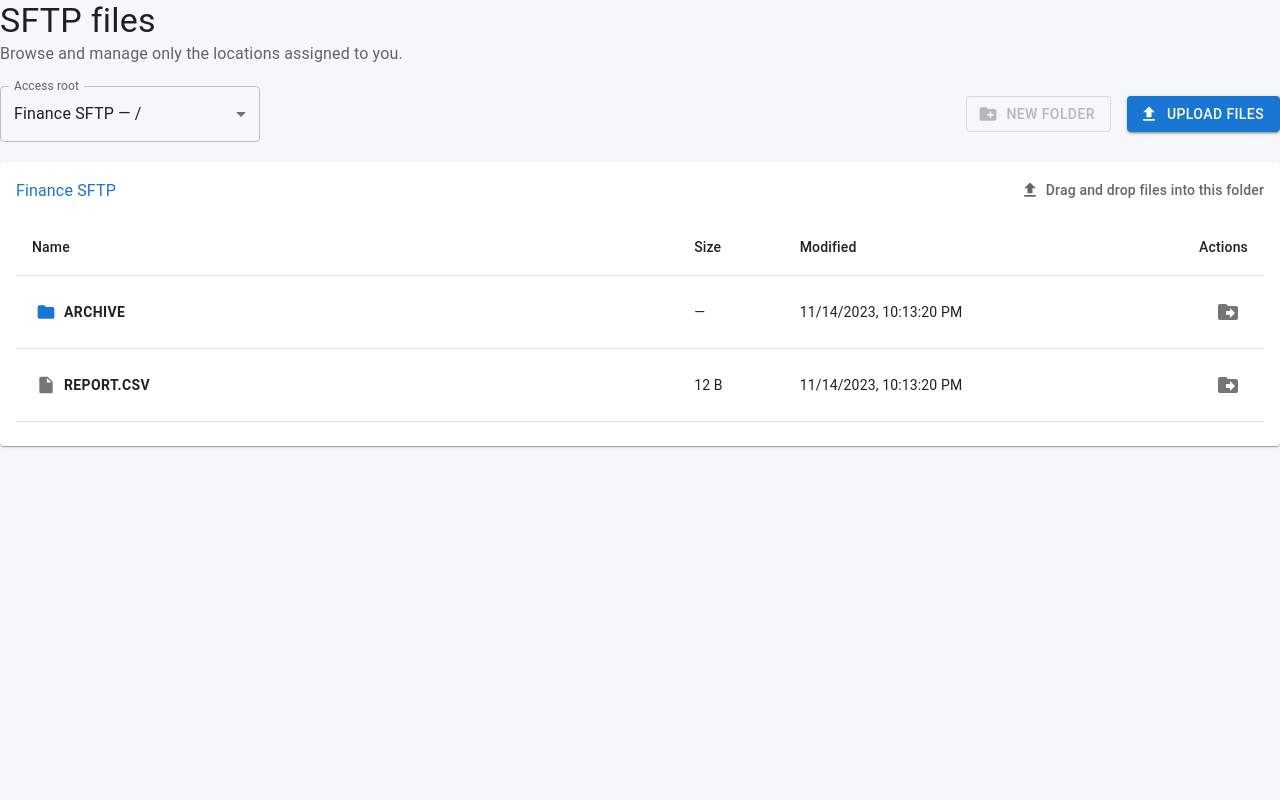
Test case: same-server move folder picker › keeps move failures highlighted inside the destination popup
Step 1. Click the button named "Move report.csv" → click(1228, 385), box left=1208, top=365, right=1248, bottom=405
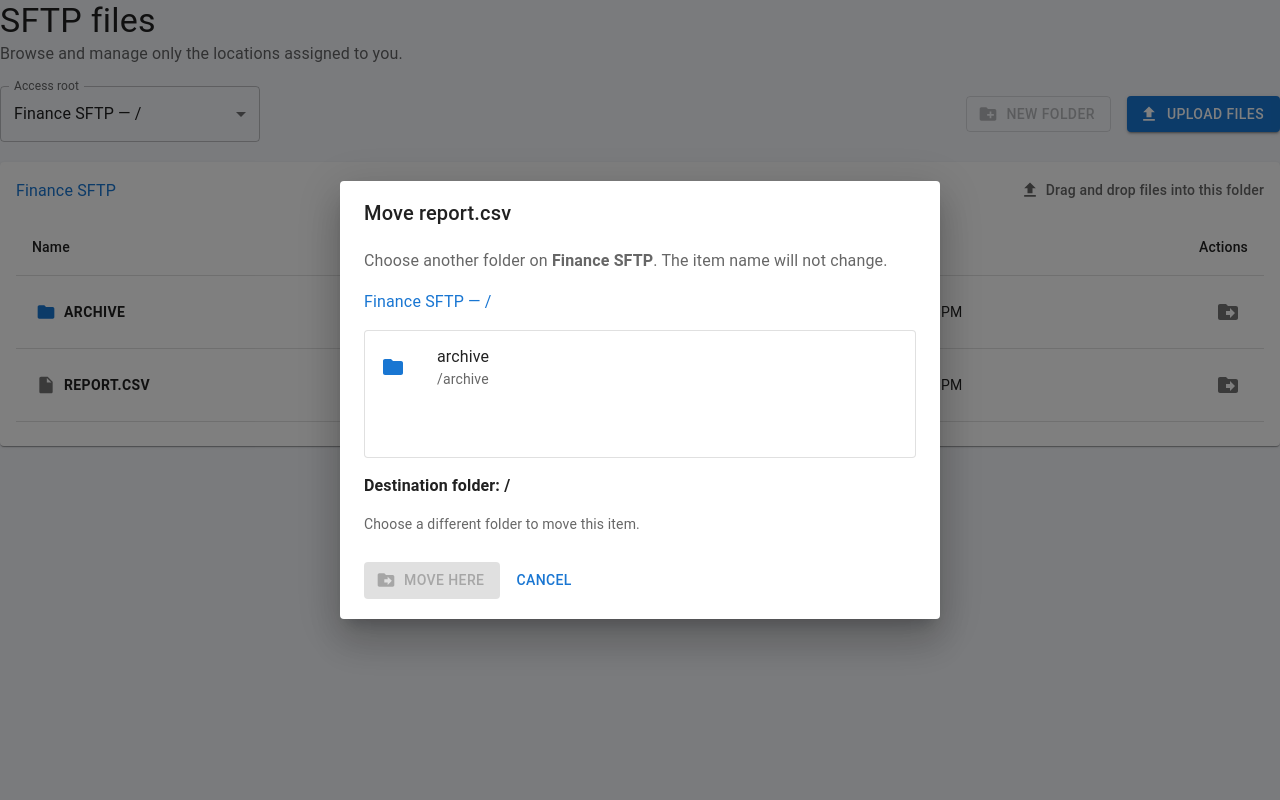
Step 2. Click the button with aria-label "Open archive" → click(435, 367), box left=381, top=347, right=489, bottom=387
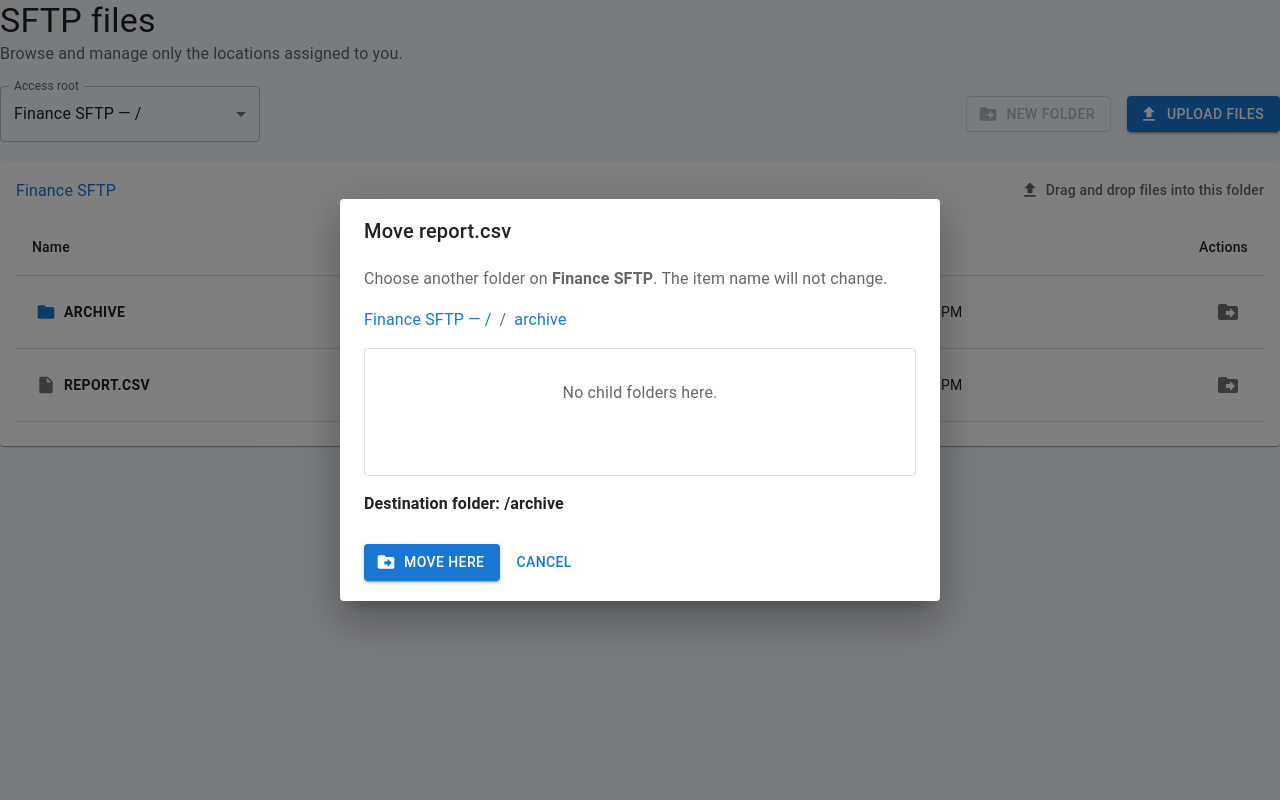
Result: the text "Destination folder: /archive" is shown at left=364, top=494, right=564, bottom=513
Step 3. Click the button "Move here" → click(432, 562), box left=364, top=544, right=500, bottom=581
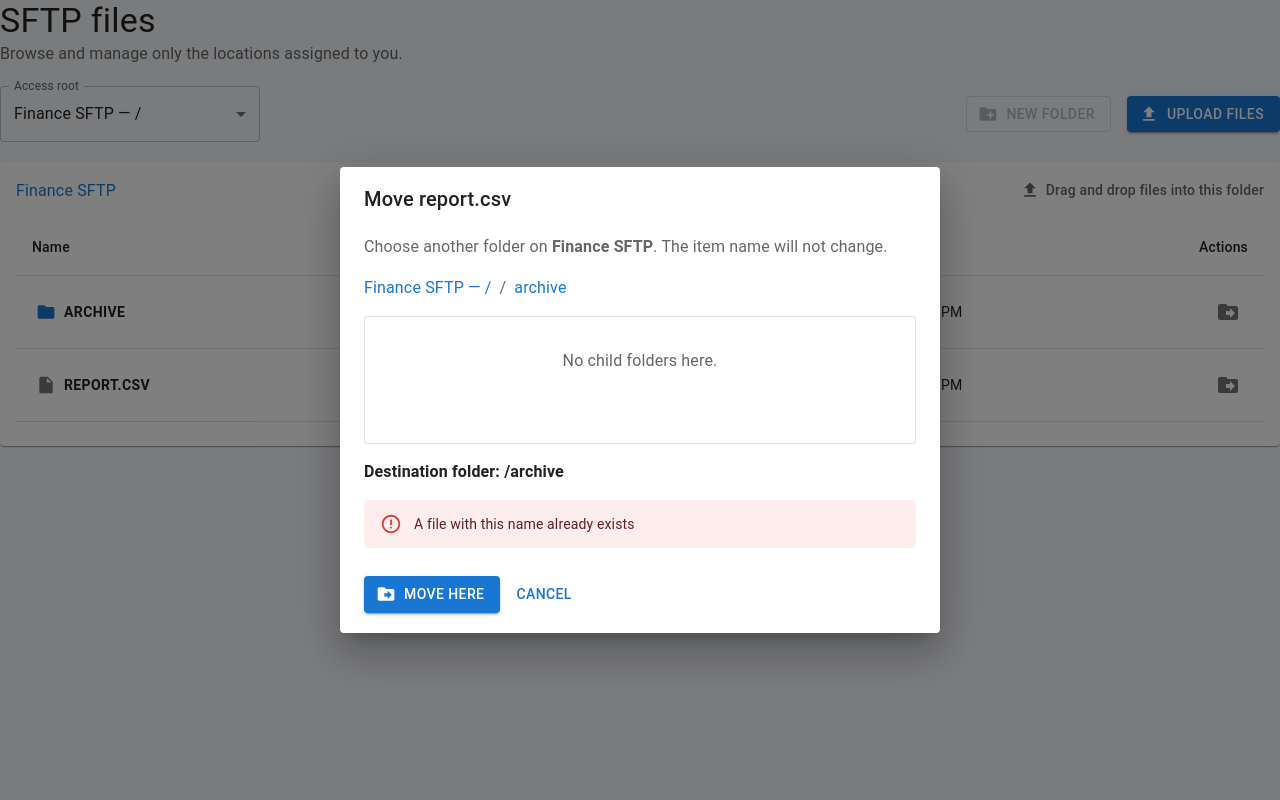
Result: the dialog "Move report.csv" is shown at left=340, top=167, right=940, bottom=633
Result: the text "A file with this name already exists" is shown at left=414, top=516, right=635, bottom=532
